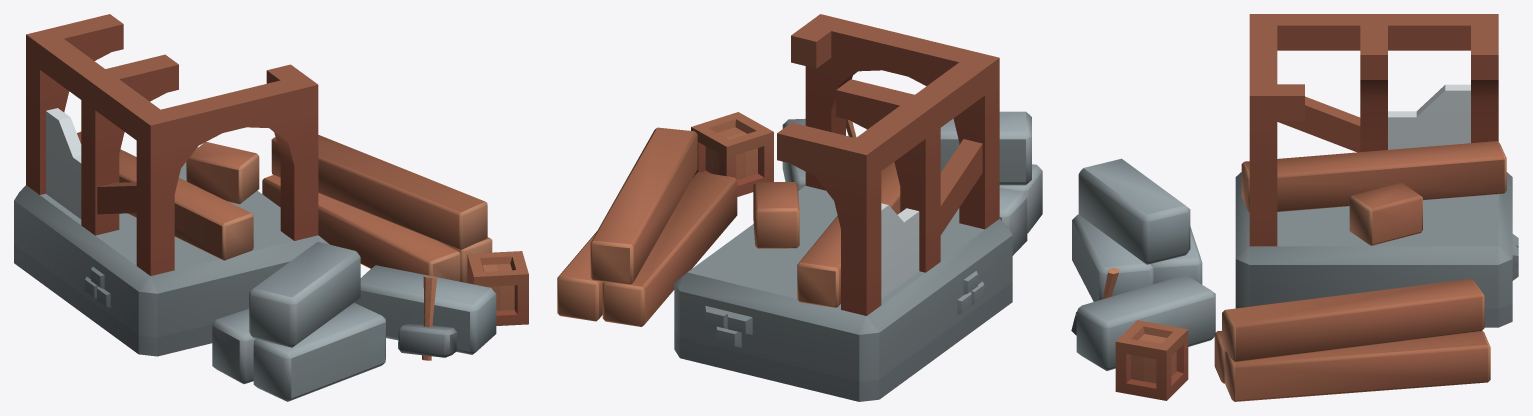
File: kay-obra-estrutura.gltf
3 views of the same model, side by side, from view 1: azimuth 30°, elevation 25°; view 2: azimuth 150°, elevation 25°; view 3: azimuth 270°, elevation 25° (orthographic). The views are drawn at different scales.
Visible parts, largest first — view 1: building_stage_B; view 2: building_stage_B; view 3: building_stage_B.
Boxes of the visible parts, x1=… form: building_stage_B: x1=14, y1=14, x2=528, y2=401; building_stage_B: x1=557, y1=14, x2=1042, y2=401; building_stage_B: x1=1071, y1=14, x2=1518, y2=401.
Size of the model in its own units: 5.1 by 3.18 by 5.65.
Materials: 1 (1 with a texture image).
